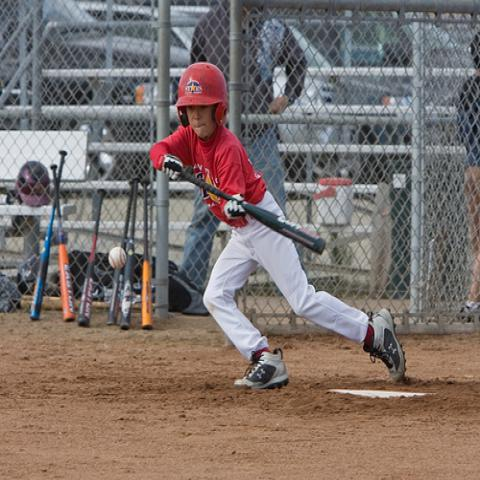car: (328, 44, 459, 167), (272, 26, 356, 145), (71, 0, 210, 54), (98, 81, 160, 181)
